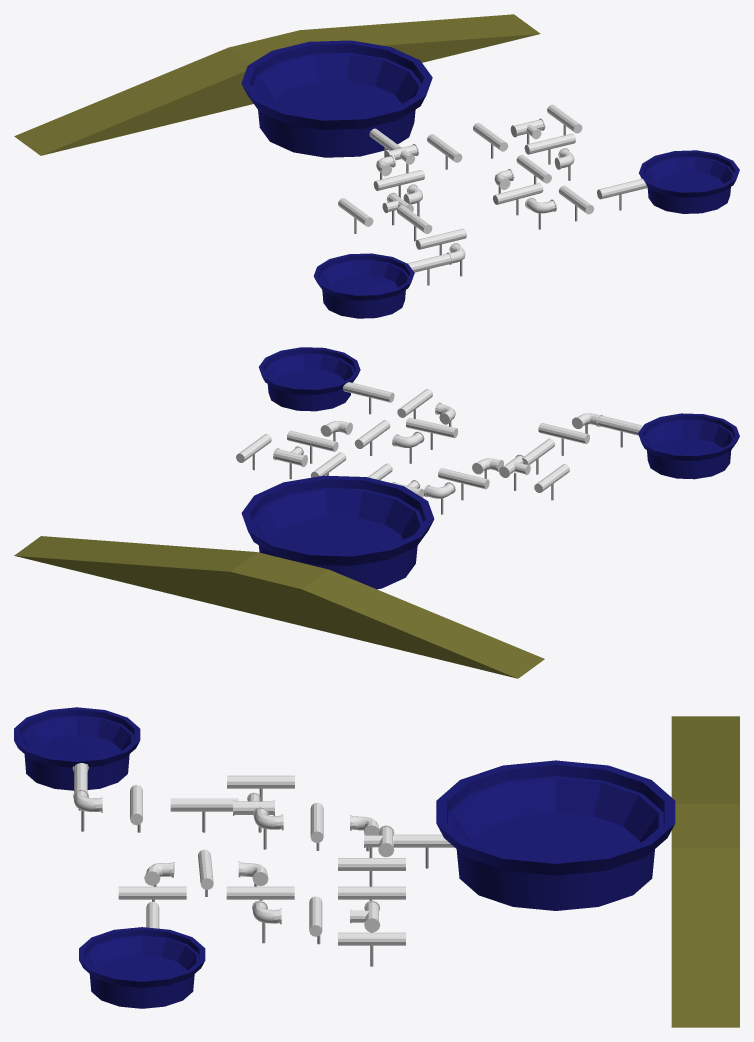
The model's file is MG Caixa d Agua_Errado.fbx.
3 views of the same model, one above another, from view 1: azimuth 30°, elevation 25°; view 2: azimuth 150°, elevation 25°; view 3: azimuth 270°, elevation 25° (orthographic). The views are drawn at different scales.
Visible parts, largest first — view 1: pCube180, pCylinder2, pCylinder57, pCylinder58, pCylinder40, pCylinder51, pCylinder36, pCylinder50, pCylinder52; view 2: pCube180, pCylinder2, pCylinder57, pCylinder58, pCylinder50, pCylinder36, pCylinder51, pCylinder40, pCylinder52; view 3: pCylinder2, pCube180, pCylinder58, pCylinder57, pCylinder45, pCylinder48, pCylinder42, pCylinder53, pCylinder54, pCylinder39, pCylinder41, pCylinder29 (+5 smaller).
Part boxes in pixels (x1,y1,x2,y2): pCube180: (14, 14, 540, 155); pCylinder2: (241, 40, 432, 157); pCylinder57: (313, 253, 414, 318); pCylinder58: (639, 150, 739, 213); pCylinder40: (415, 228, 466, 249); pCylinder51: (524, 133, 575, 154); pCylinder36: (373, 170, 424, 190); pCylinder50: (493, 183, 543, 204); pCylinder52: (597, 178, 647, 199); pCube180: (14, 536, 544, 678); pCylinder2: (241, 475, 434, 589); pCylinder57: (638, 413, 739, 479); pCylinder58: (259, 347, 360, 411); pCylinder50: (406, 417, 458, 438); pCylinder36: (438, 468, 489, 489); pCylinder51: (287, 430, 338, 451); pCylinder40: (538, 423, 589, 443); pCylinder52: (343, 382, 394, 402); pCylinder2: (436, 760, 675, 910); pCube180: (671, 716, 739, 1027); pCylinder58: (79, 927, 205, 1008); pCylinder57: (14, 707, 140, 790); pCylinder45: (226, 886, 294, 899); pCylinder48: (118, 886, 186, 899); pCylinder42: (338, 886, 405, 899); pCylinder53: (227, 775, 294, 788); pCylinder54: (338, 932, 405, 945); pCylinder39: (170, 798, 238, 811); pCylinder41: (338, 858, 405, 870); pCylinder29: (393, 834, 454, 847).
Bounding box in the file's own units: 8.32 × 0.7527 × 8.2.
